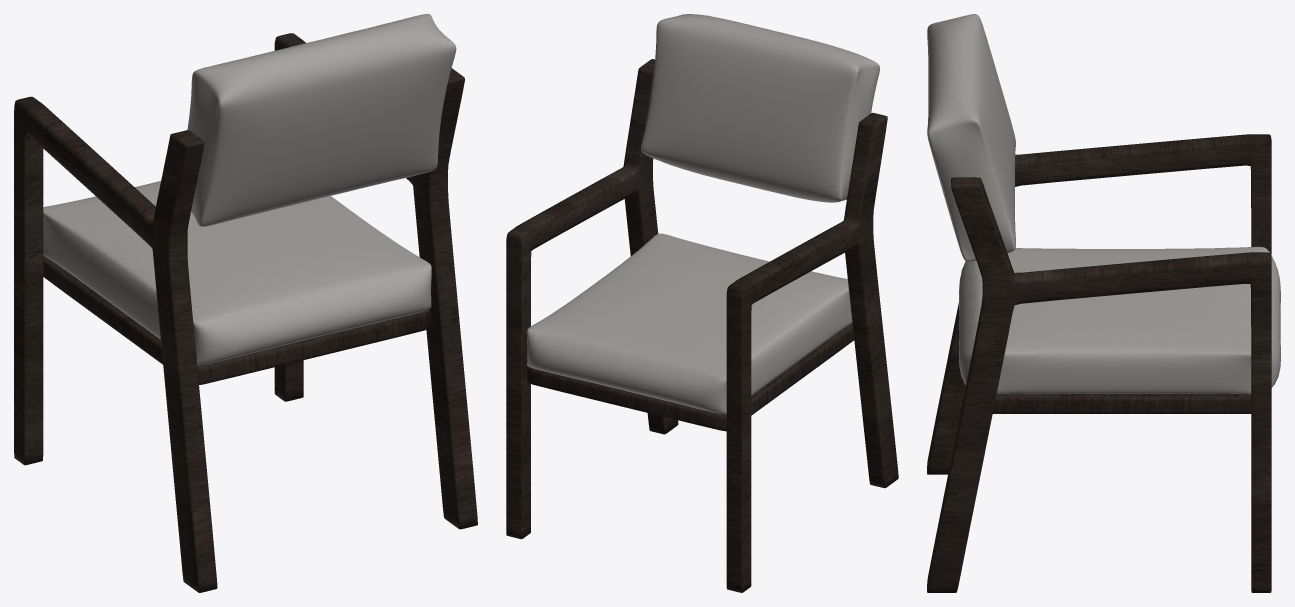
Rendered from Chair18.fbx.
3 views of the same model, side by side, from view 1: azimuth 30°, elevation 25°; view 2: azimuth 150°, elevation 25°; view 3: azimuth 270°, elevation 25° (orthographic). The views are drawn at different scales.
Visible parts, largest first — view 1: Chair18; view 2: Chair18; view 3: Chair18.
Part boxes in pixels (x1=…): Chair18: x1=14, y1=14, x2=477, y2=592; Chair18: x1=506, y1=14, x2=898, y2=592; Chair18: x1=927, y1=14, x2=1280, y2=592.
Size of the model in its own units: 49.56 by 85.6 by 58.4.
